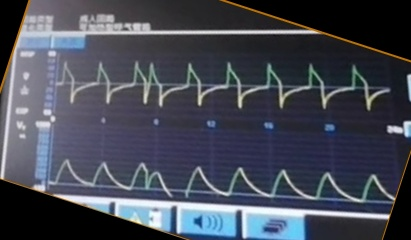Double_Triggering Flow: (59, 52, 351, 111)
Double_Triggering Volume: (49, 151, 350, 200)
